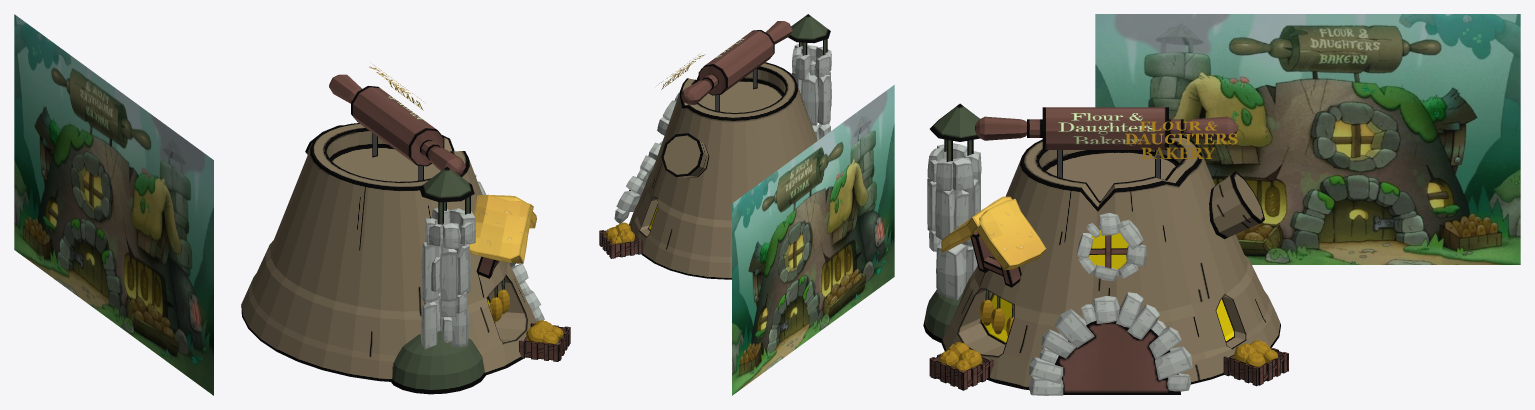
File: FLOURNDAUGHTERS.glb
The picture shows the model from 3 angles, left to right: view 1: azimuth 30°, elevation 25°; view 2: azimuth 150°, elevation 25°; view 3: azimuth 270°, elevation 25°; orthographic projection. The views are drawn at different scales.
Visible parts, largest first — view 1: Flour, Flour & Daughter´s Bakery; view 2: Flour, Flour & Daughter´s Bakery; view 3: Flour, Flour & Daughter´s Bakery, Flour_Par8.
Part boxes in pixels (x1=…): Flour: x1=241, y1=74, x2=570, y2=394; Flour & Daughter´s Bakery: x1=14, y1=14, x2=213, y2=395; Flour: x1=599, y1=14, x2=831, y2=279; Flour & Daughter´s Bakery: x1=732, y1=85, x2=894, y2=395; Flour: x1=923, y1=103, x2=1288, y2=395; Flour & Daughter´s Bakery: x1=1095, y1=14, x2=1520, y2=264; Flour_Par8: x1=1125, y1=121, x2=1237, y2=158.
Size of the model in its own units: 16.99 by 12.83 by 27.32.
Materials: 3 (2 with a texture image).
